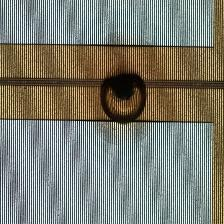PARTICLE: (96, 69, 152, 125)
